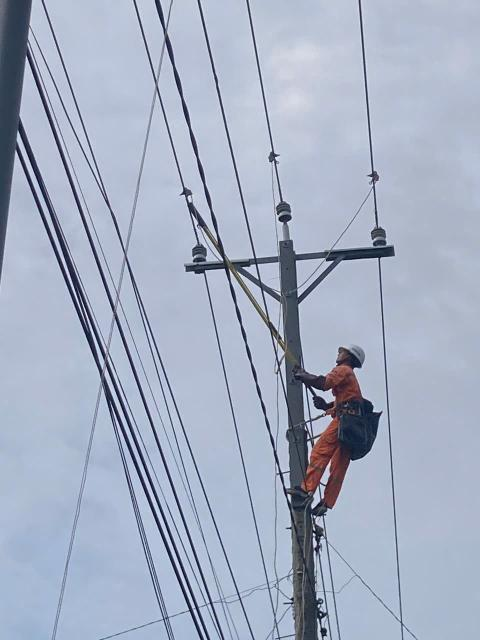gloves: (285, 369, 332, 392), (312, 394, 333, 411)
harness: (326, 398, 373, 418)
helmet: (336, 338, 379, 369)
shoes: (278, 480, 316, 503), (309, 498, 332, 520)
